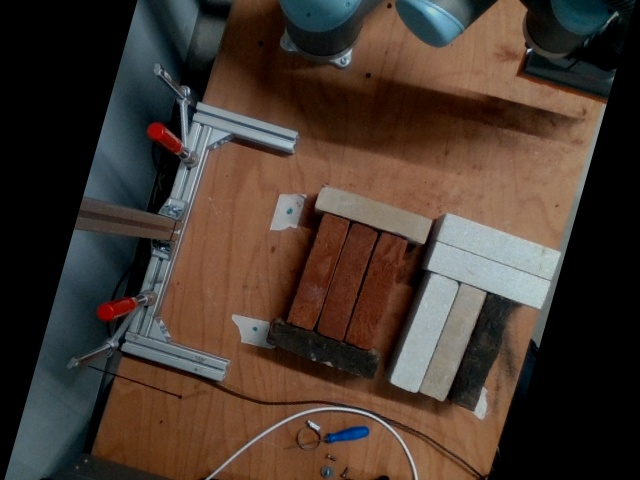brick-side: (392, 274, 459, 393), (439, 214, 559, 279), (428, 242, 548, 307), (421, 283, 486, 402), (449, 295, 513, 410), (289, 216, 350, 329), (317, 225, 378, 338), (345, 235, 406, 348), (268, 322, 378, 380), (318, 188, 430, 242)
